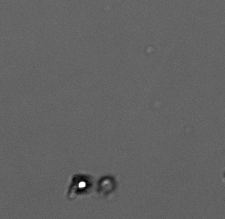Dead Cell: (99, 174, 118, 195)
Living Cell: (73, 174, 90, 192)
